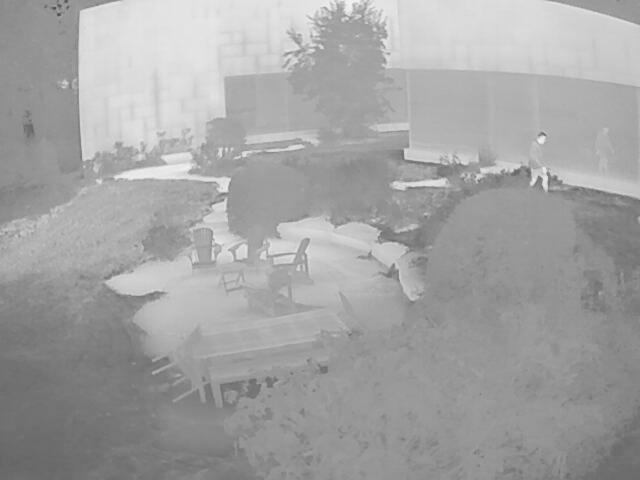person: (527, 131, 552, 201), (590, 120, 615, 178)
